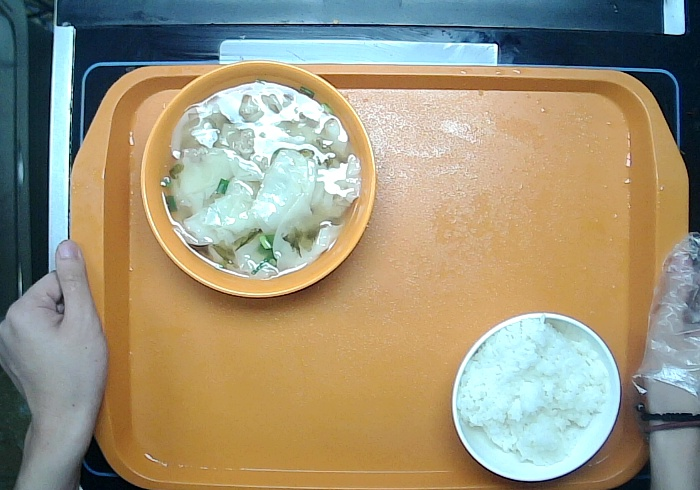NLDX-Fan_Wan: (450, 311, 626, 484)
NLDX-Hun_Tun_Wan: (137, 60, 378, 300)
